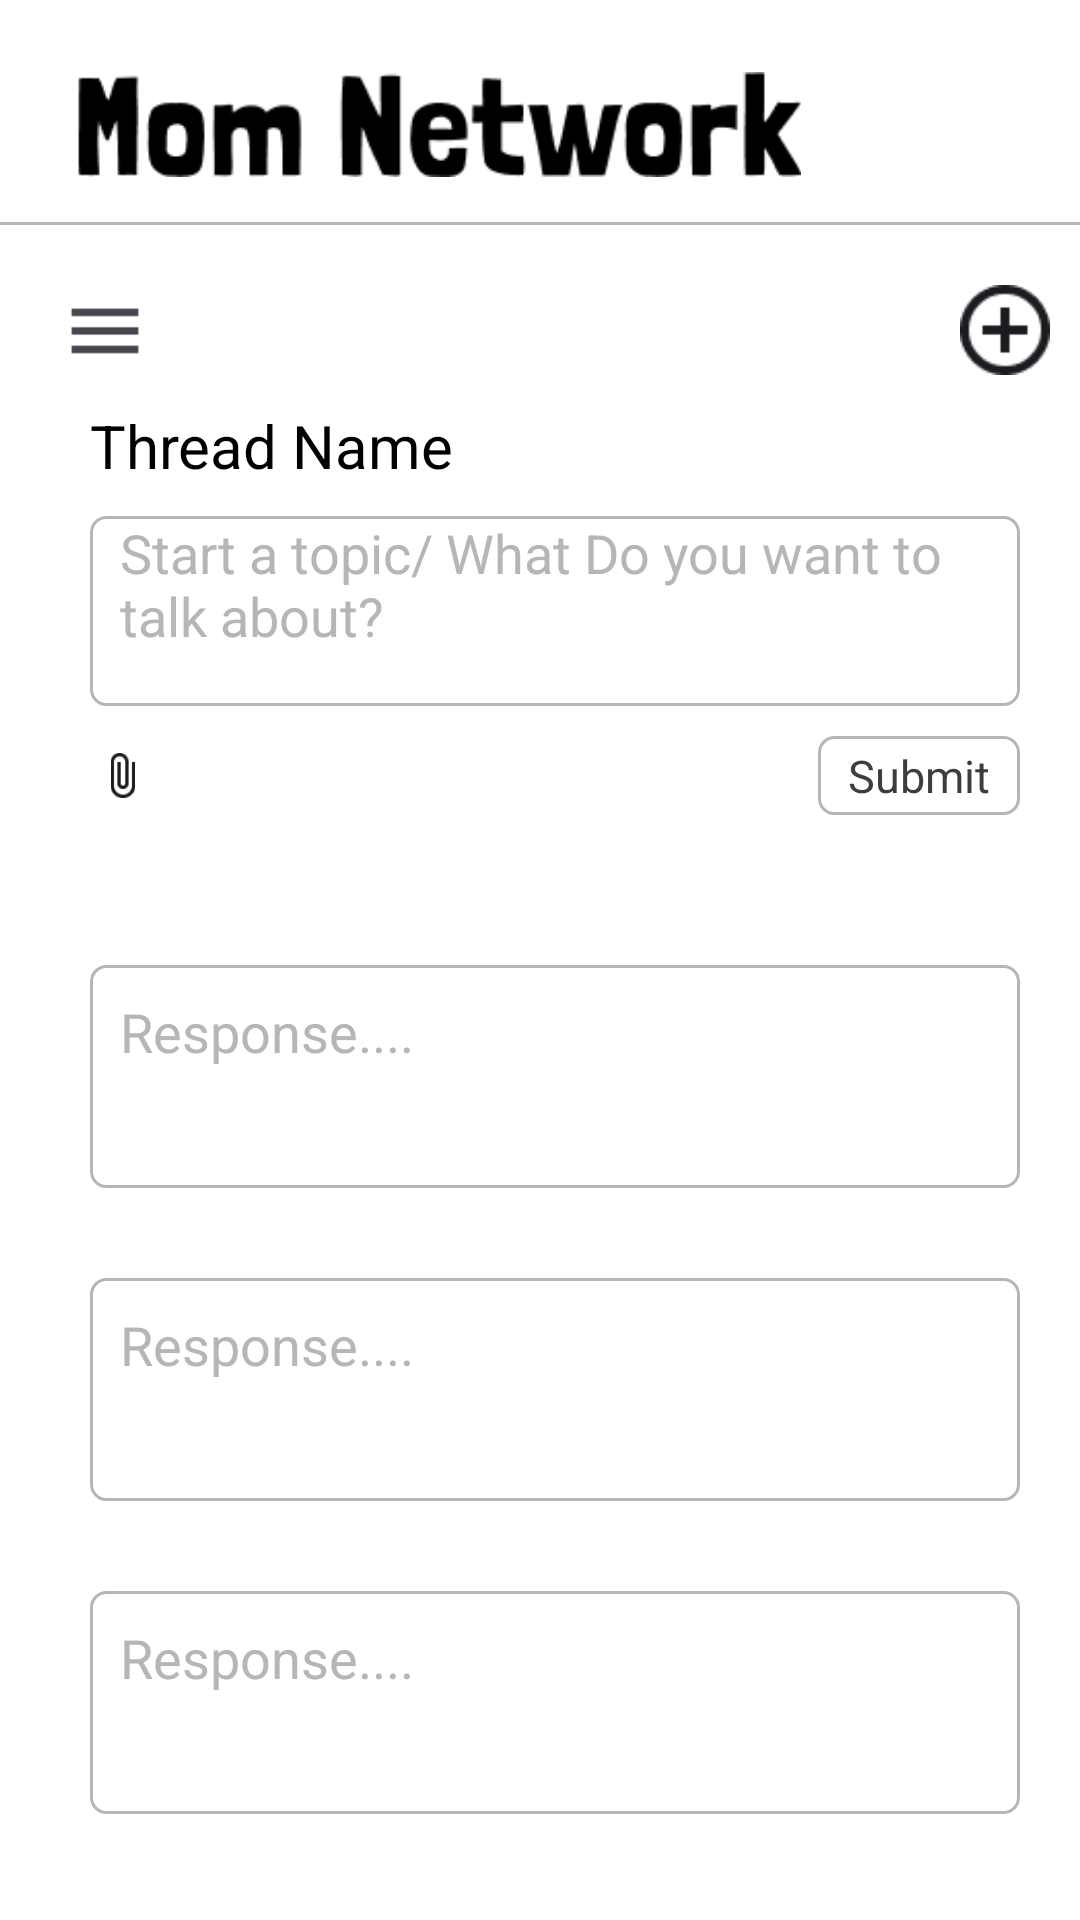

Screen size 1080x1920. Icon name, then its box in pixels as (x1, y1, x2, y2):
link: (111, 753, 135, 798)
menu: (71, 308, 139, 354)
plus: (960, 285, 1050, 375)
